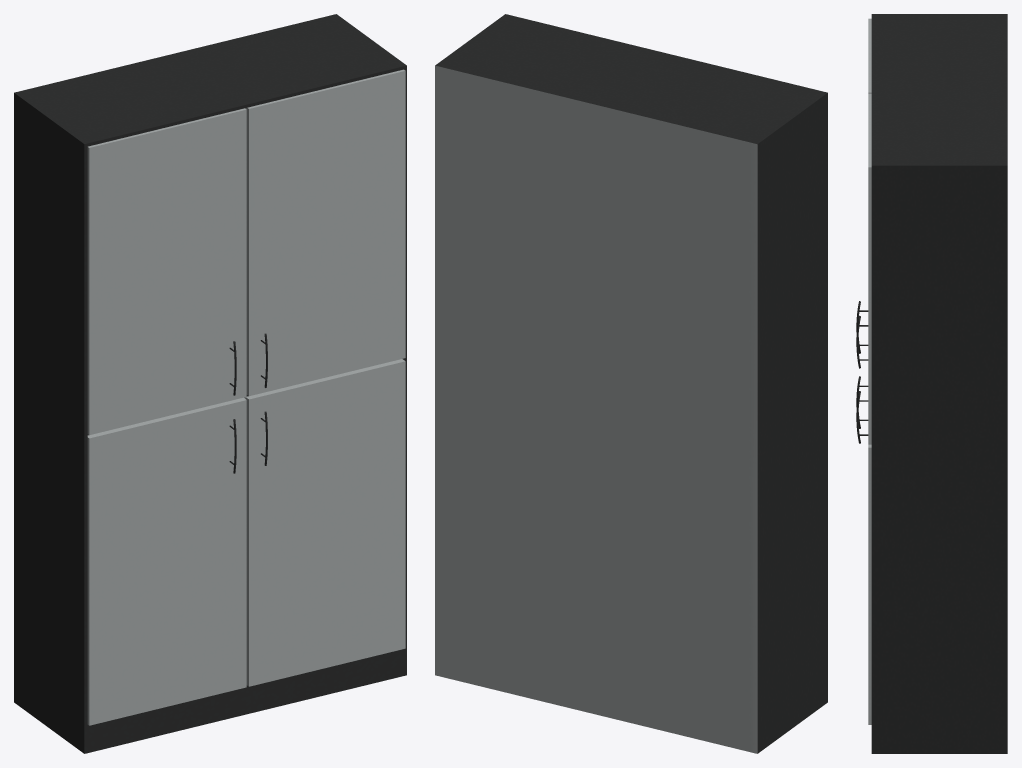
The model's file is shkafv2.FBX.
The picture shows the model from 3 angles, left to right: view 1: azimuth 30°, elevation 25°; view 2: azimuth 150°, elevation 25°; view 3: azimuth 270°, elevation 25°; orthographic projection. The views are drawn at different scales.
Parts seen in each view (by area): view 1: Cabinet, Door01, Door02, Door04, Door03; view 2: Cabinet; view 3: Cabinet, Door03, Door02, Door04.
Boxes of the visible parts, x1=… form: Cabinet: x1=14, y1=14, x2=406, y2=753; Door01: x1=87, y1=397, x2=246, y2=725; Door02: x1=245, y1=359, x2=405, y2=686; Door04: x1=87, y1=108, x2=246, y2=435; Door03: x1=245, y1=69, x2=405, y2=396; Cabinet: x1=435, y1=14, x2=827, y2=753; Cabinet: x1=871, y1=14, x2=1007, y2=753; Door03: x1=856, y1=93, x2=871, y2=444; Door02: x1=856, y1=391, x2=871, y2=724; Door04: x1=856, y1=18, x2=871, y2=353.
Bounding box in the file's own units: 106 × 191 × 44.47.
